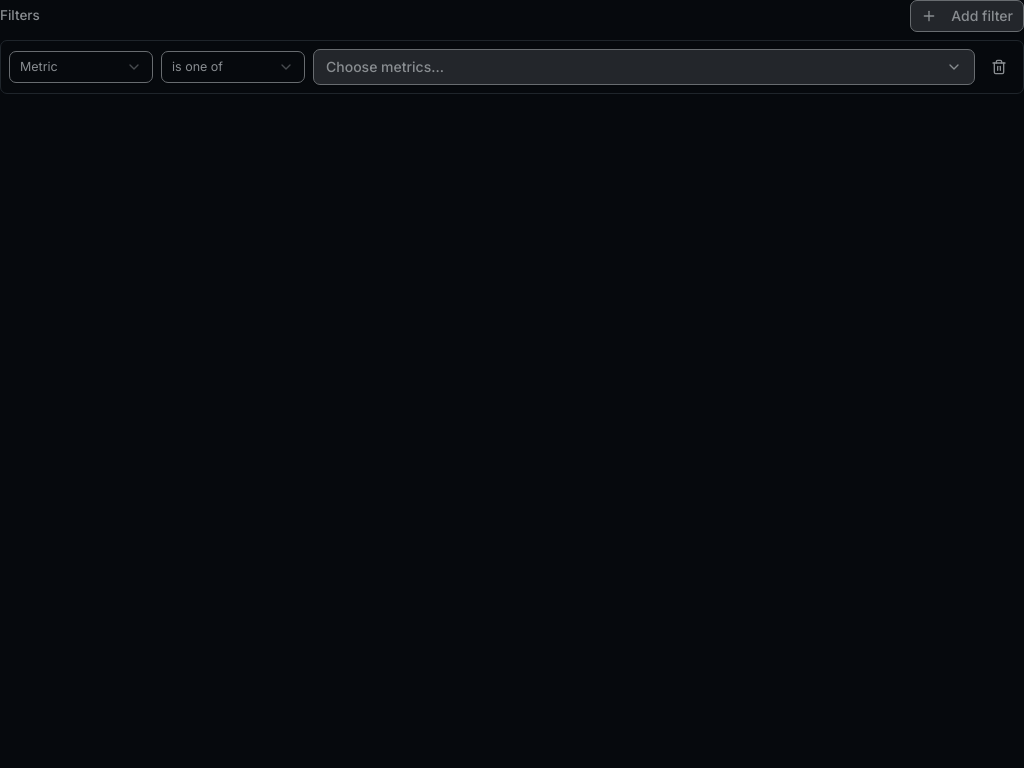
Scenario: FilterEditor — metric filter › lists catalog metrics, not directions, when the picker opens
Click the button "Choose metrics…" at point(385, 66), box [313,49,975,85]
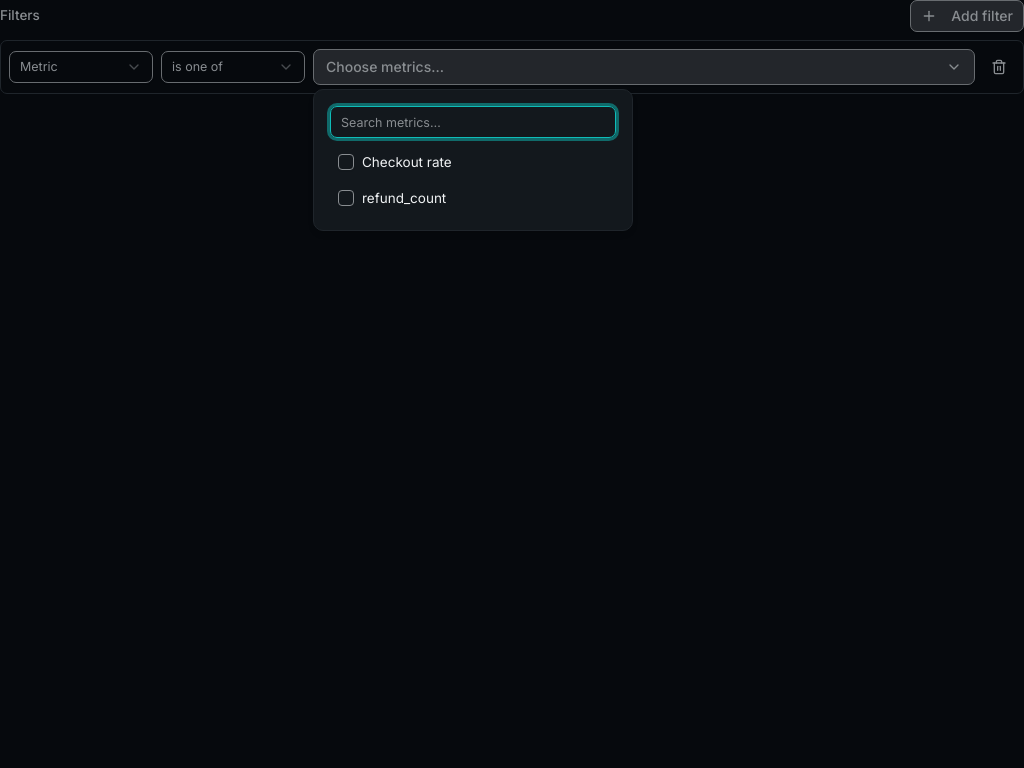
Check: the text "Checkout rate" is shown, box [362,152,452,172]
Check: the text "refund_count" is shown, box [362,188,446,208]
